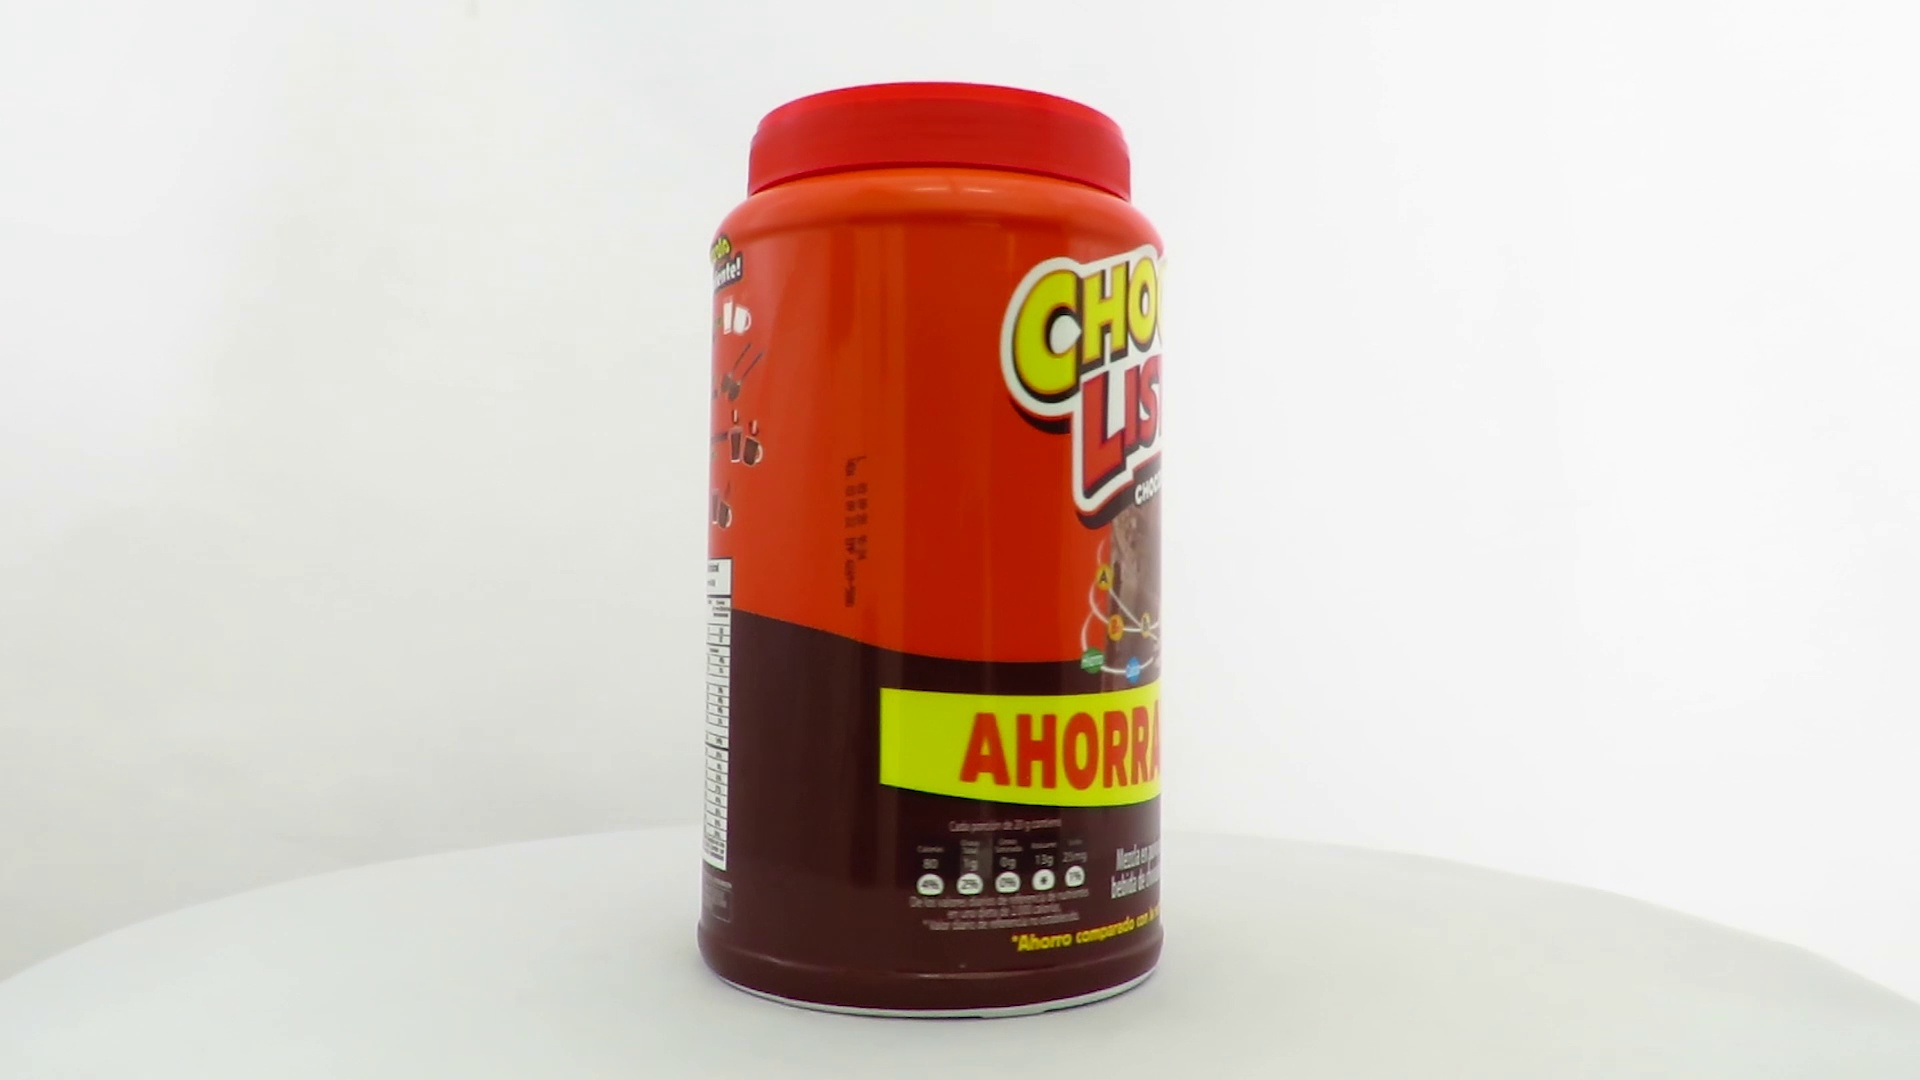COL0170103TRR00100: (692, 76, 1170, 1027)
